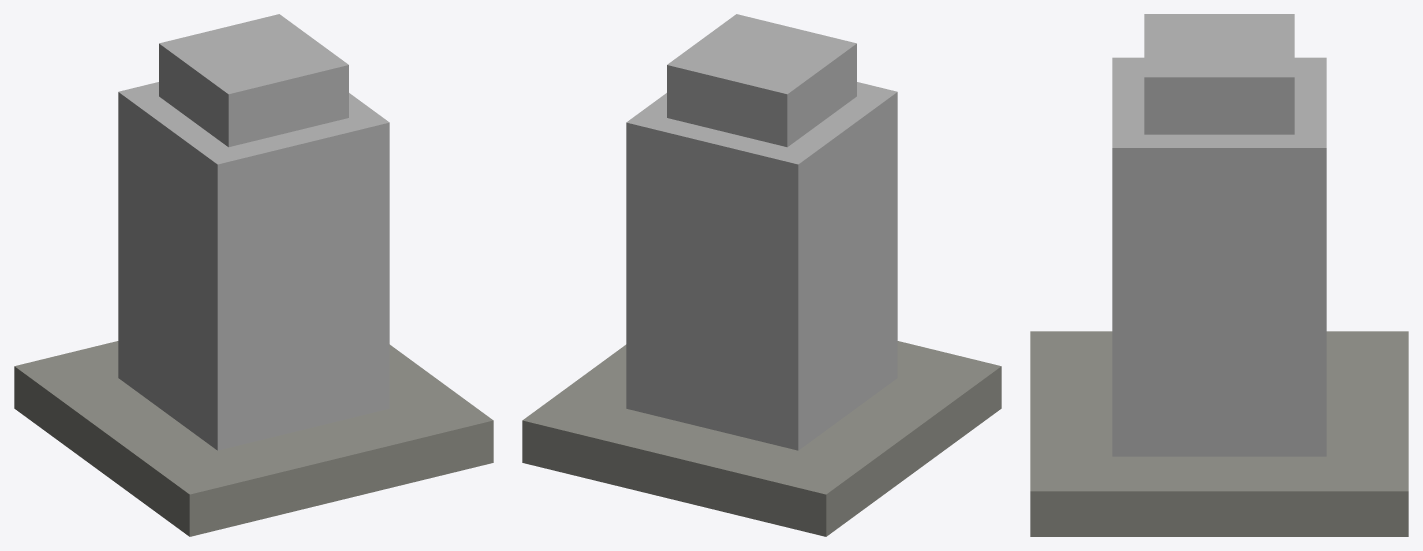
Rendered from SM_poste_km_v3_LOD1.fbx.
The picture shows the model from 3 angles, left to right: view 1: azimuth 30°, elevation 25°; view 2: azimuth 150°, elevation 25°; view 3: azimuth 270°, elevation 25°; orthographic projection. The views are drawn at different scales.
Parts seen in each view (by area): view 1: SM_bloques.poste_km_v3_LOD1; view 2: SM_bloques.poste_km_v3_LOD1; view 3: SM_bloques.poste_km_v3_LOD1.
Part boxes in pixels (x1,y1,x2,y2): SM_bloques.poste_km_v3_LOD1: (14, 14, 493, 536); SM_bloques.poste_km_v3_LOD1: (522, 14, 1001, 536); SM_bloques.poste_km_v3_LOD1: (1030, 14, 1408, 536).
Bounding box in the file's own units: 0.6 × 0.72 × 0.6.
